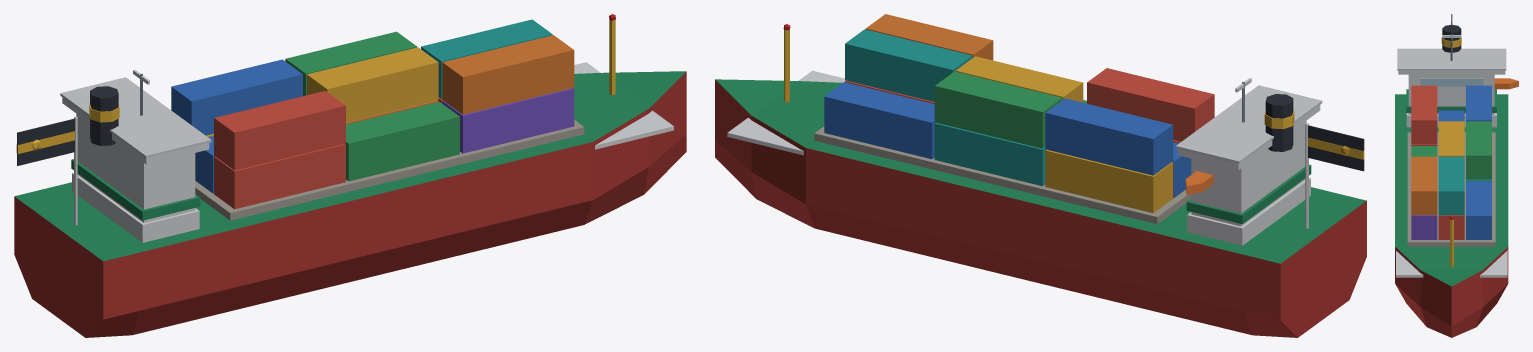
Rendered from ship_passing.glb.
The picture shows the model from 3 angles, left to right: view 1: azimuth 30°, elevation 25°; view 2: azimuth 150°, elevation 25°; view 3: azimuth 270°, elevation 25°; orthographic projection. The views are drawn at different scales.
Visible parts, largest first — view 1: ship_passing; view 2: ship_passing; view 3: ship_passing.
Part boxes in pixels (x1,y1,x2,y2): ship_passing: (14, 14, 686, 337); ship_passing: (715, 14, 1366, 337); ship_passing: (1395, 14, 1518, 337).
Size of the model in its own units: 23.45 by 7.5 by 5.9.
